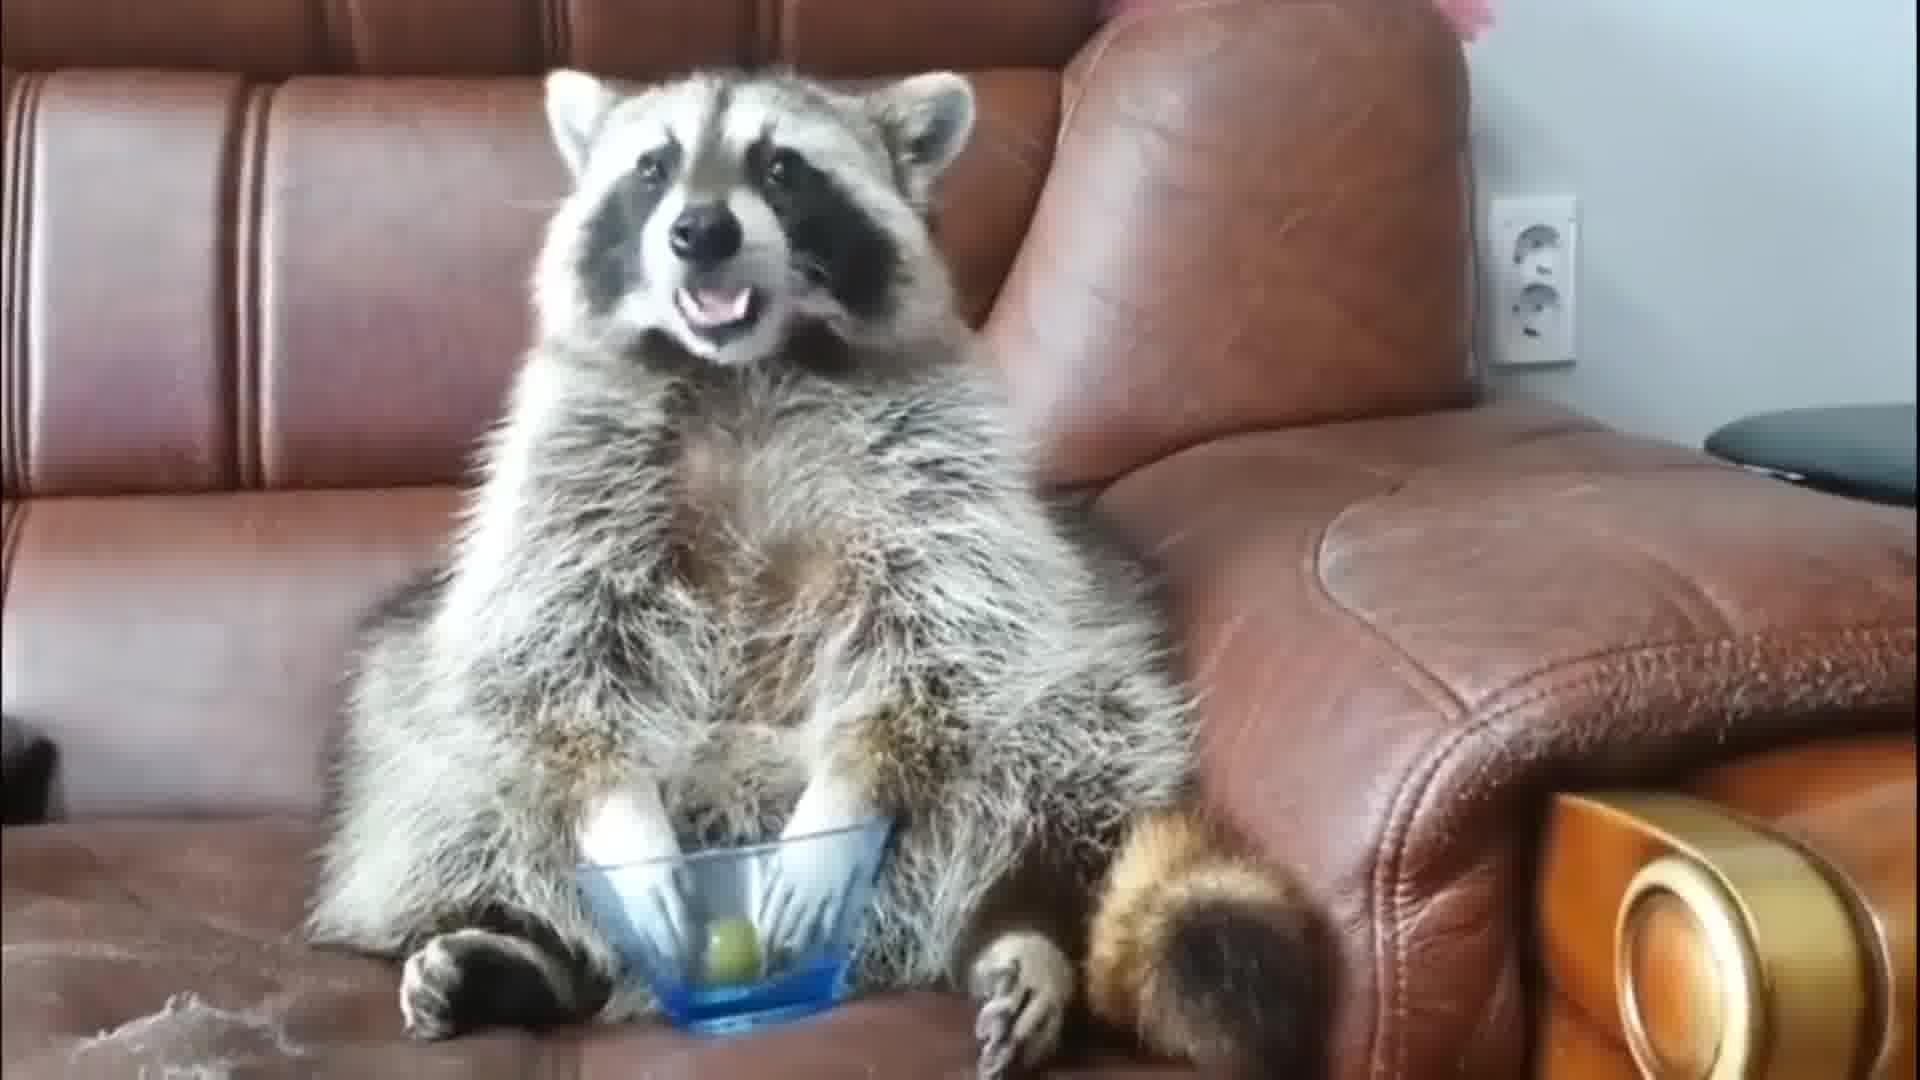raccoon: (311, 57, 1346, 1080)
